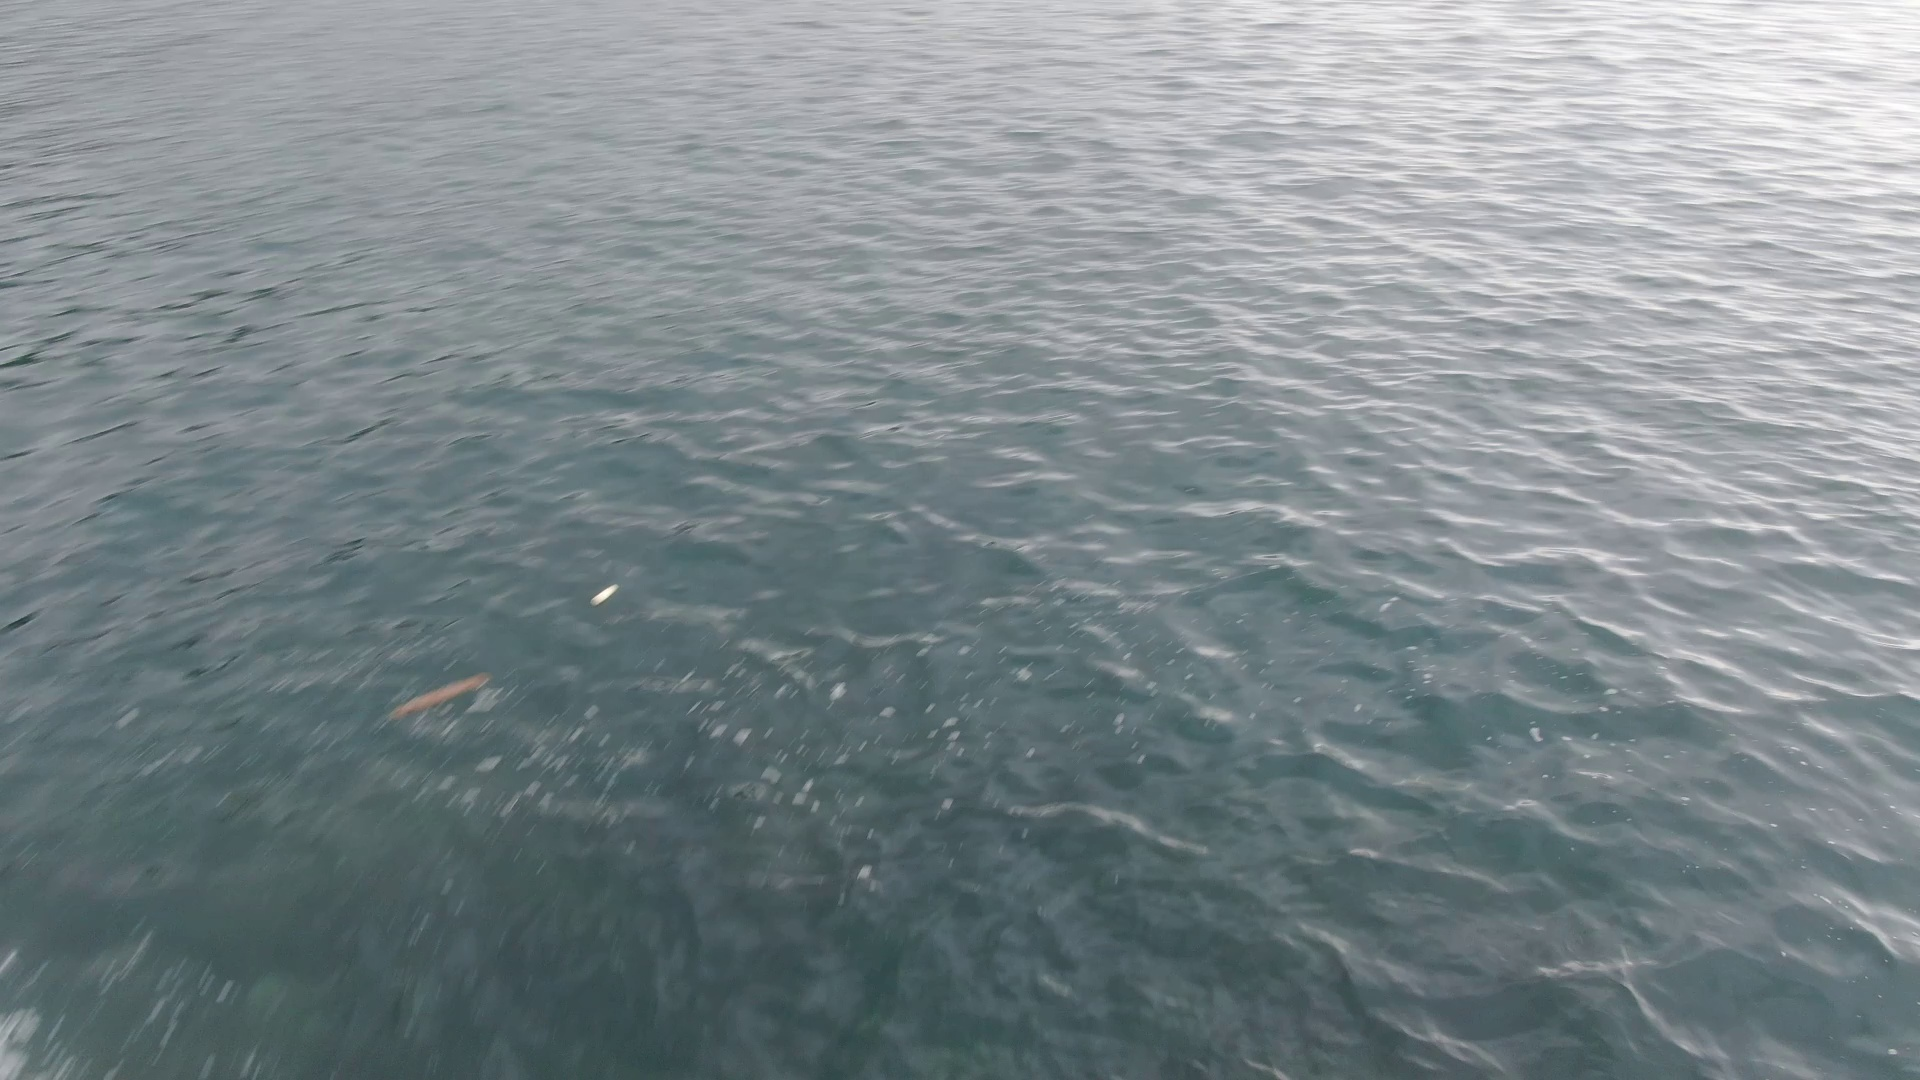garbage: (392, 671, 493, 721), (588, 579, 624, 609)
